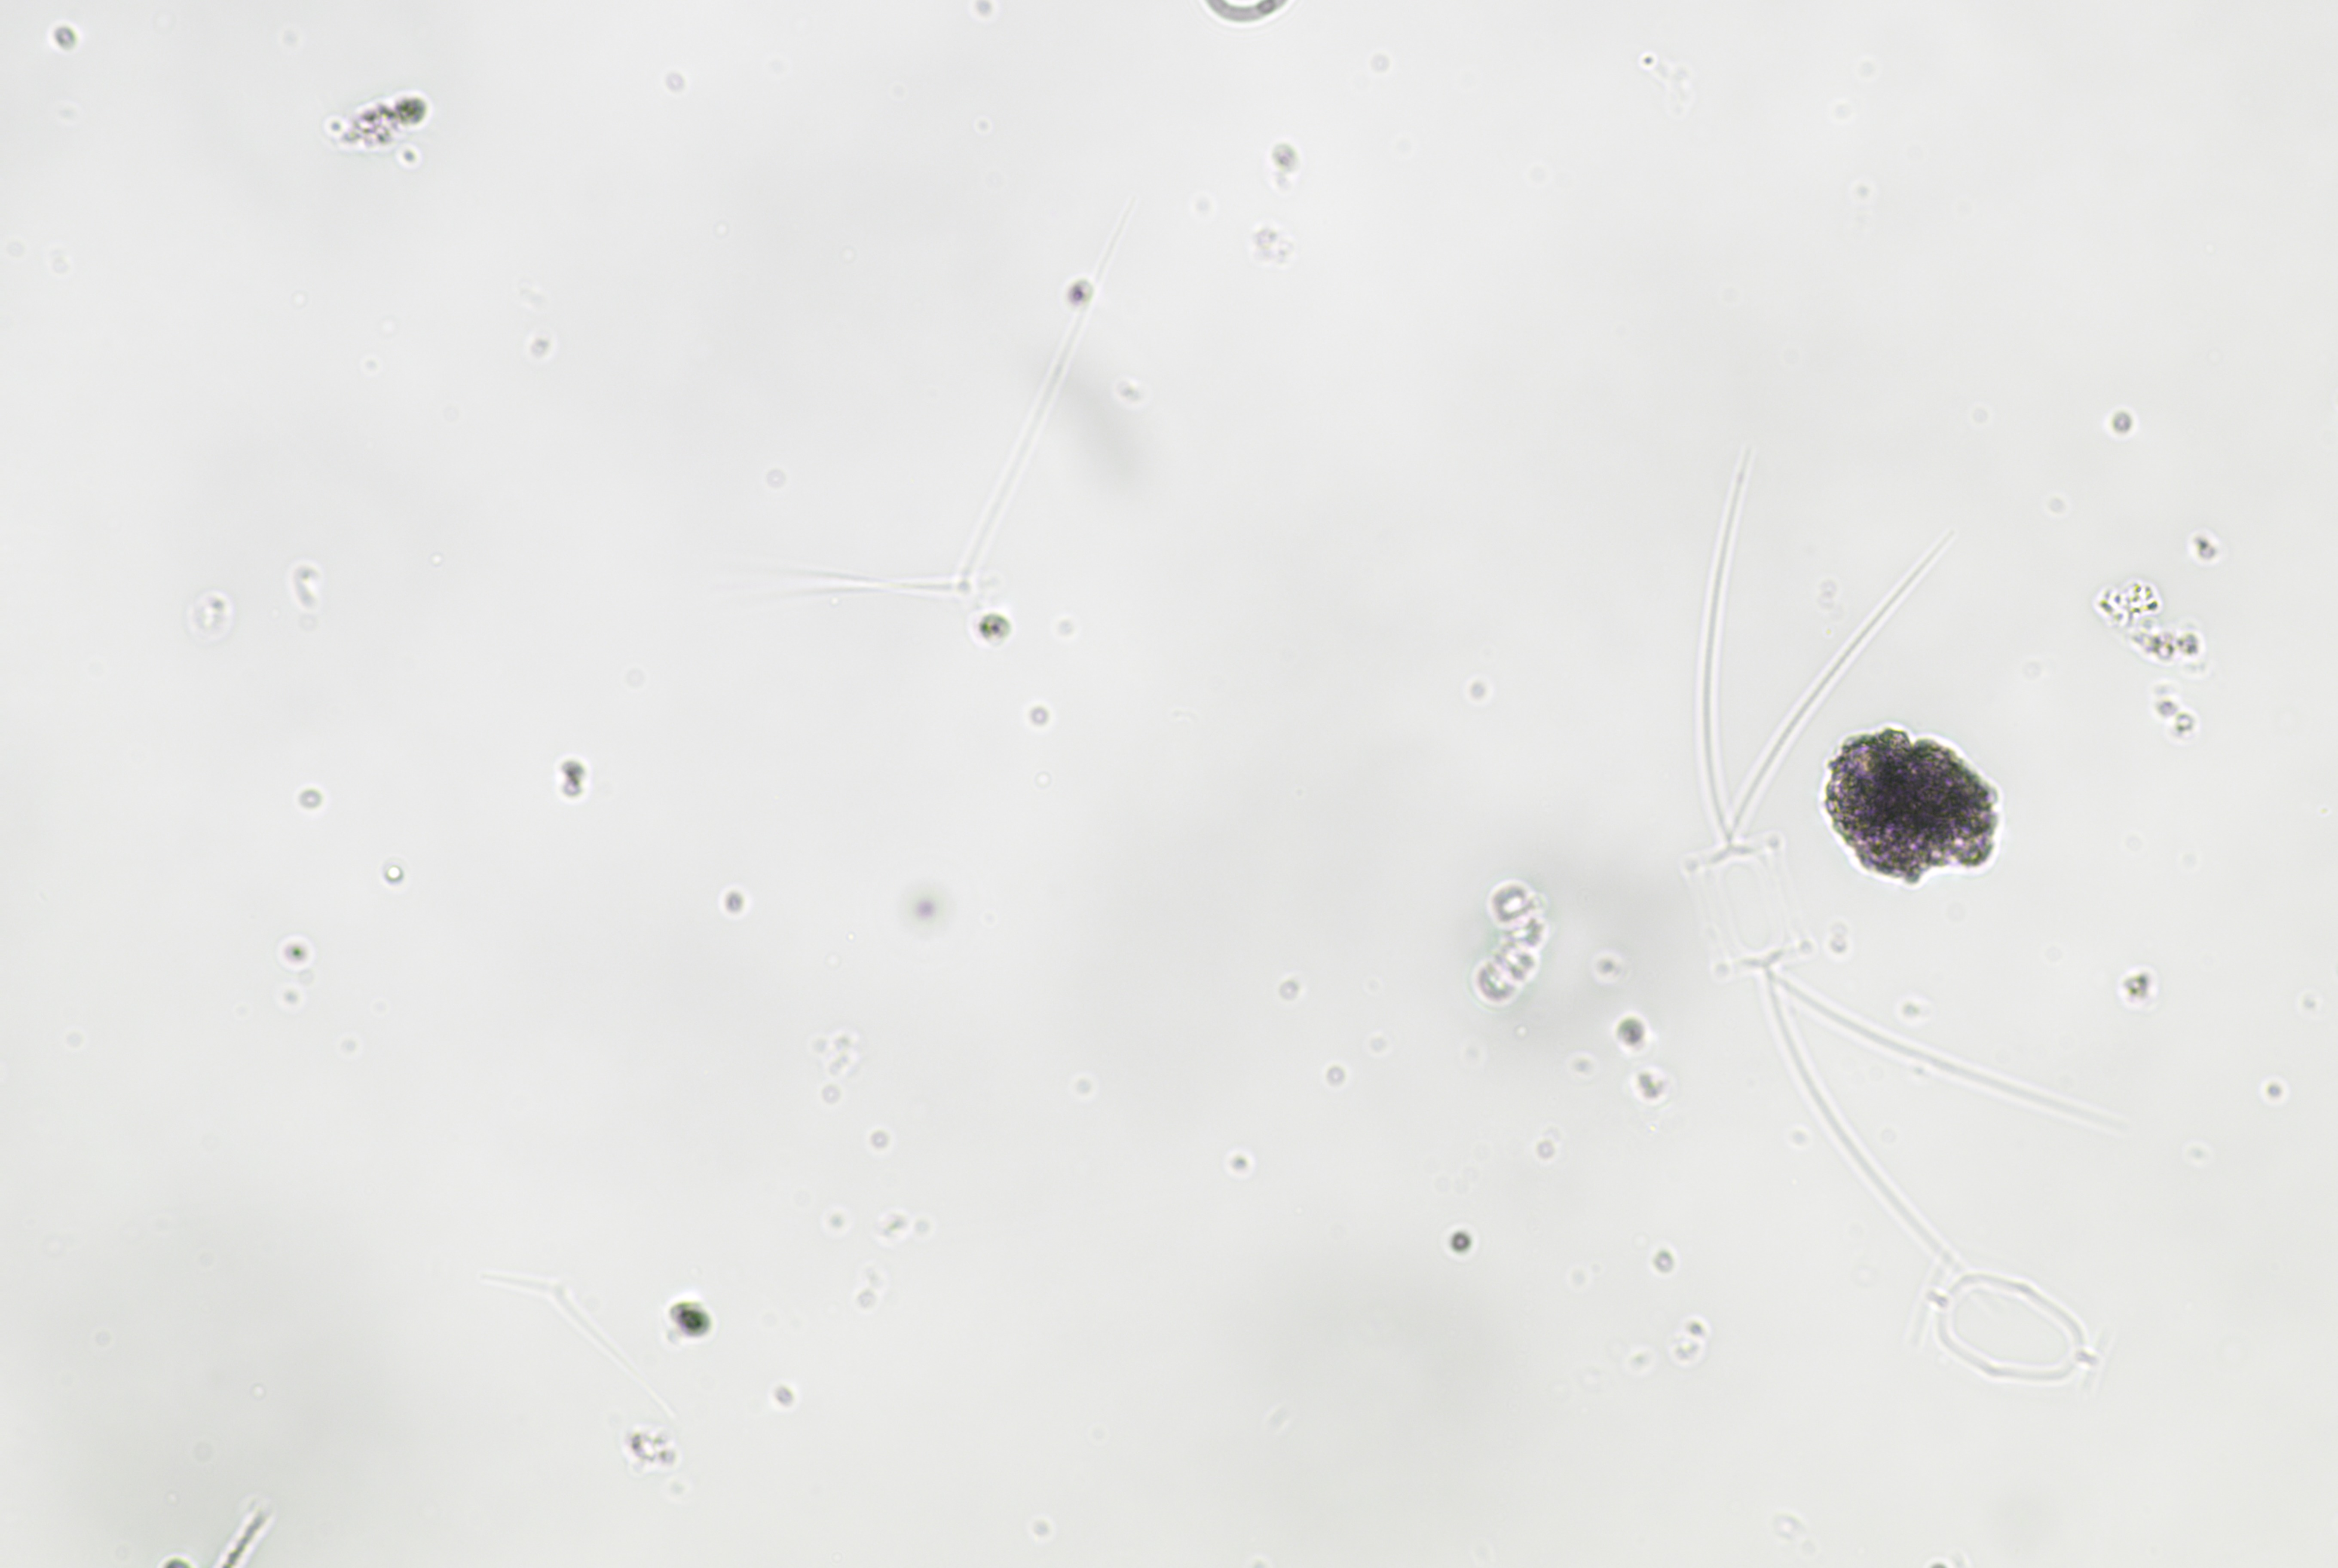chaetoceros: (1682, 436, 2089, 1256)
